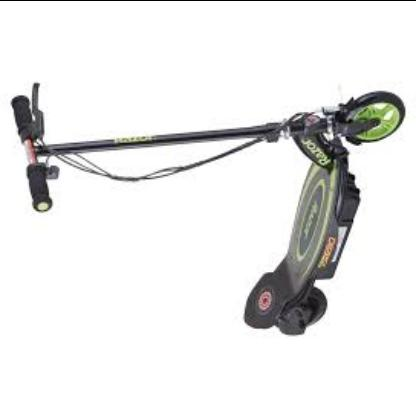bike: (6, 89, 408, 338)
